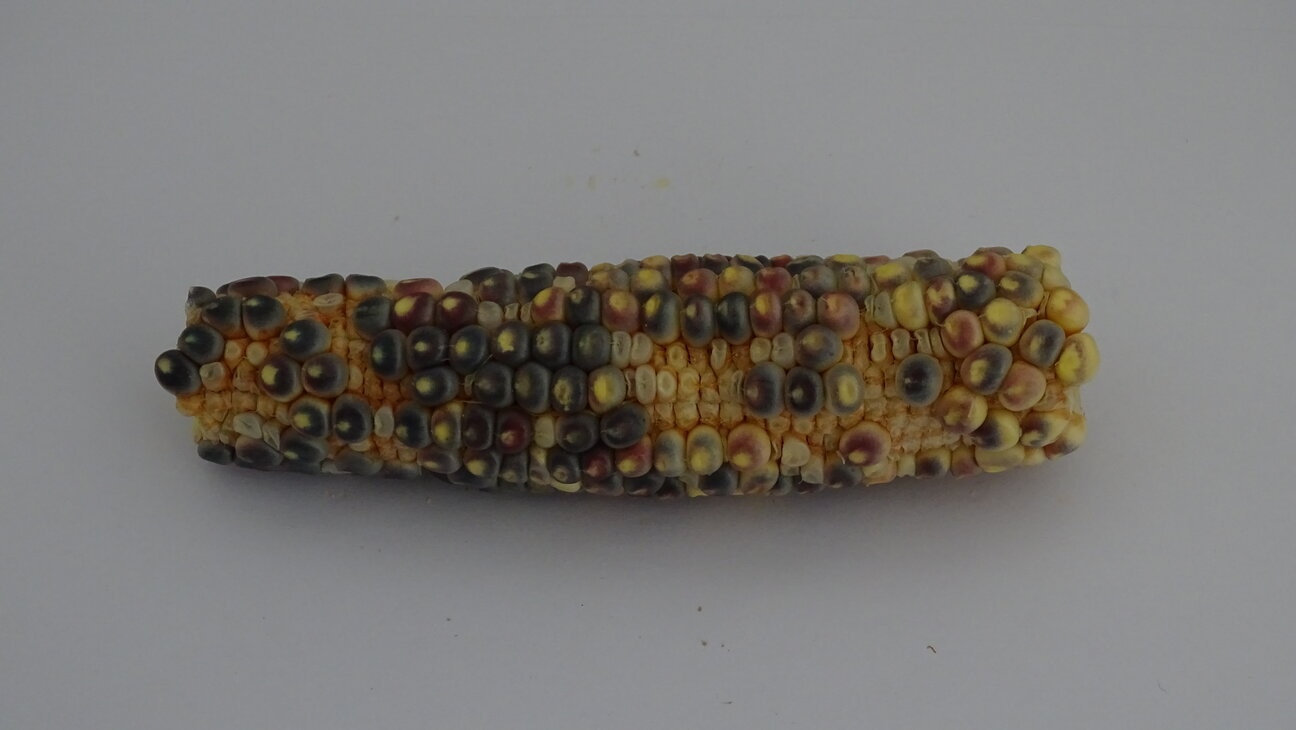ear: (154, 246, 1098, 502)
